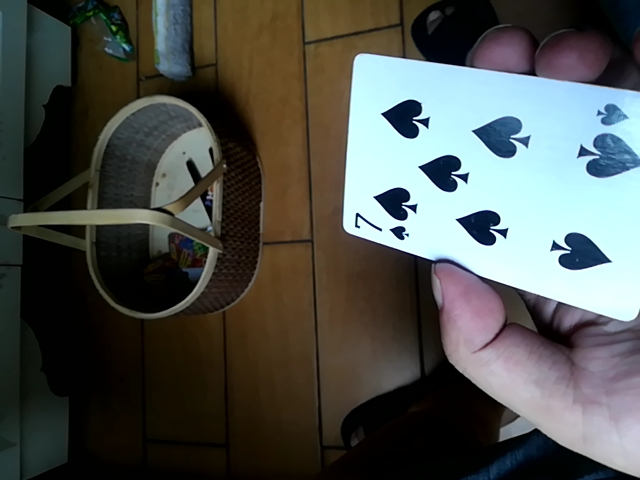ht 7: (338, 54, 640, 325)
